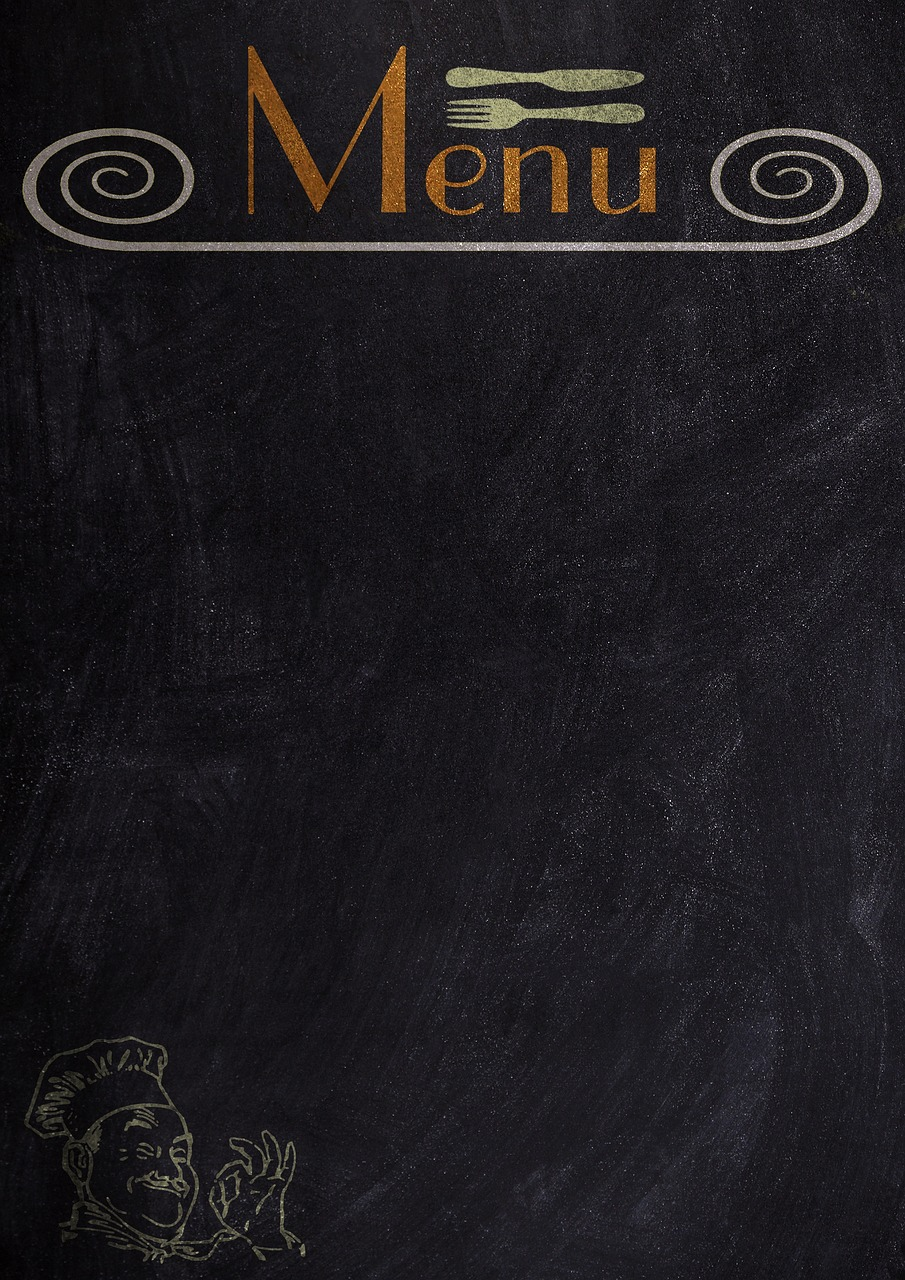knife: (437, 50, 649, 102)
